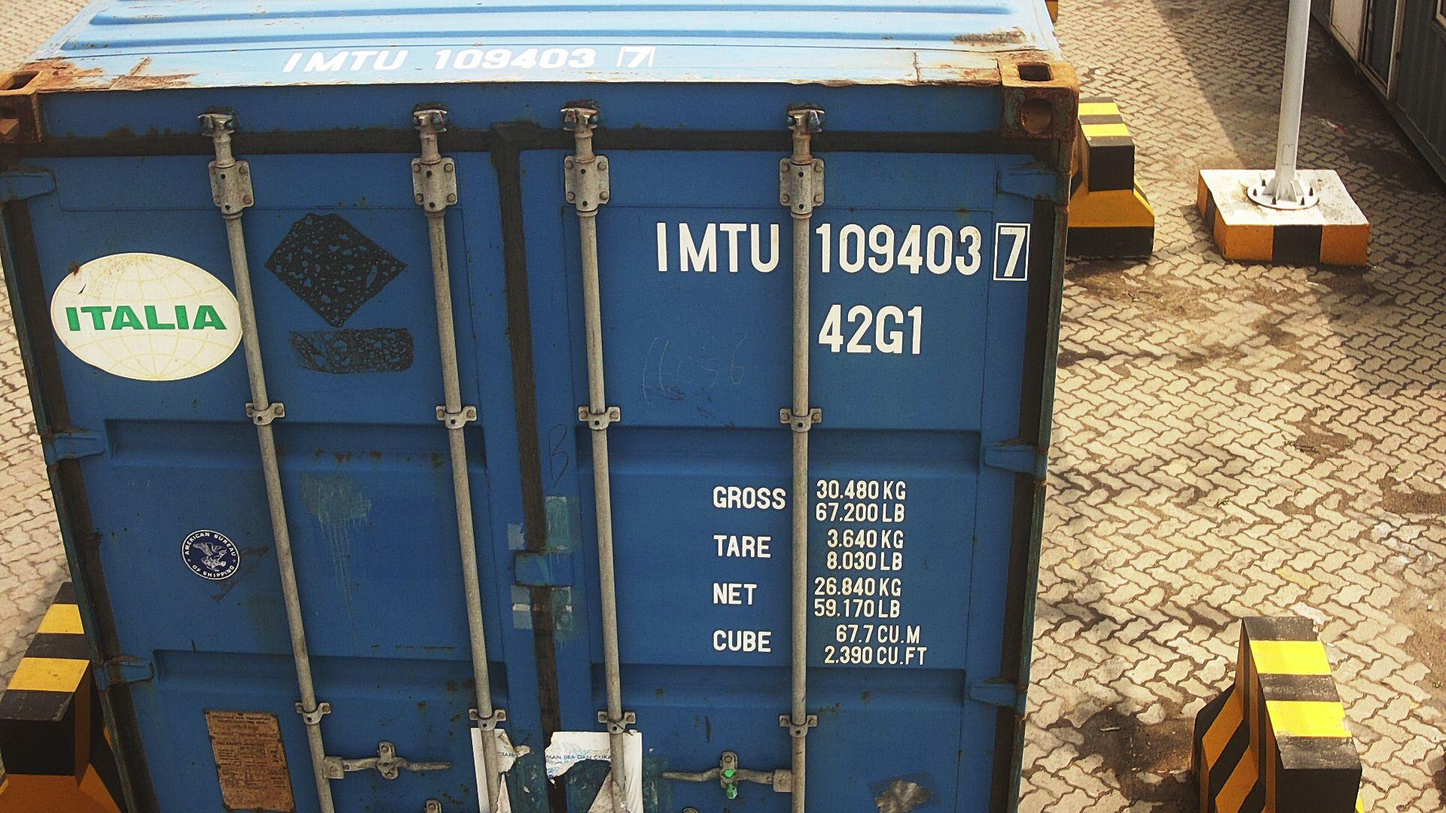container-numbers: (651, 218, 1033, 285), (273, 42, 664, 74), (810, 300, 929, 359)
